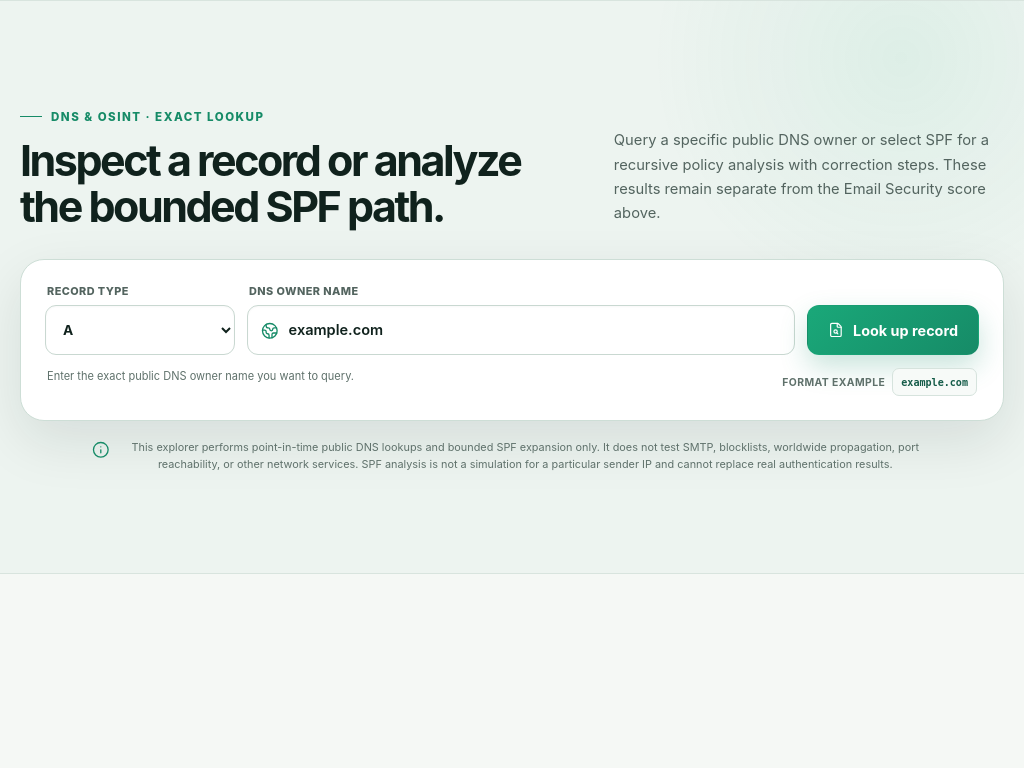
Test: DNS record explorer interactions › surfaces an API failure and does not infer record absence
Click the button "Look up record". click: (893, 330)
box: [807,305,979,355]
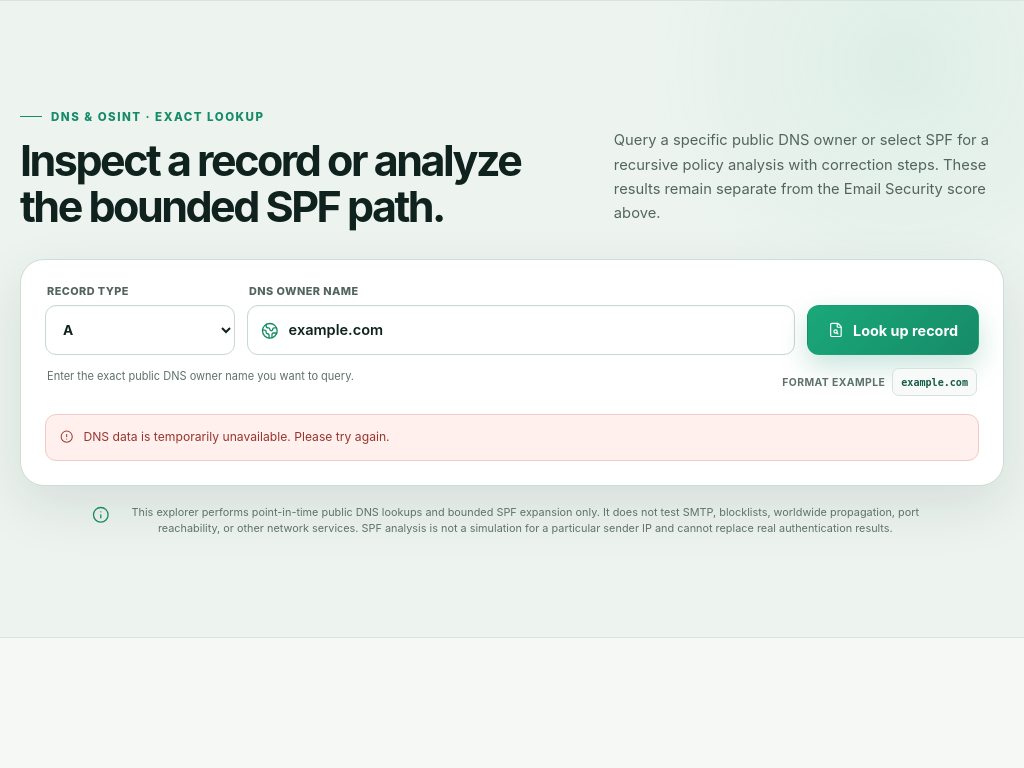
Expected: the message "DNS data is temporarily unavailable. Please try again." is shown, [45,414,979,461]
Expected: the message shows "temporarily unavailable", [83,429,390,444]
